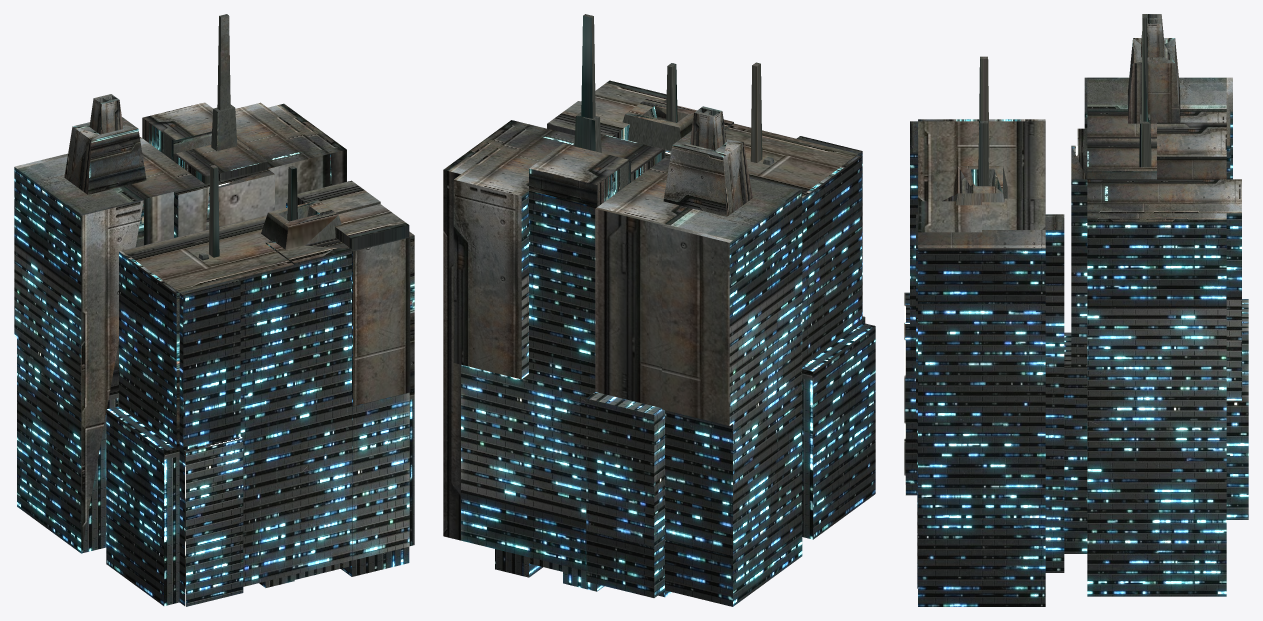
The model's file is 2026-residential-building-3.glb.
3 views of the same model, side by side, from view 1: azimuth 30°, elevation 25°; view 2: azimuth 150°, elevation 25°; view 3: azimuth 270°, elevation 25° (orthographic). The views are drawn at different scales.
Visible parts, largest first — view 1: 2026-residential-building-3; view 2: 2026-residential-building-3; view 3: 2026-residential-building-3.
Part boxes in pixels (left/top/right/bottom): 2026-residential-building-3: left=14, top=14, right=414, bottom=606; 2026-residential-building-3: left=443, top=14, right=875, bottom=606; 2026-residential-building-3: left=904, top=14, right=1248, bottom=606.
Bounding box in the file's own units: 61.84 × 110 × 62.32.
1 material, 1 textured.
